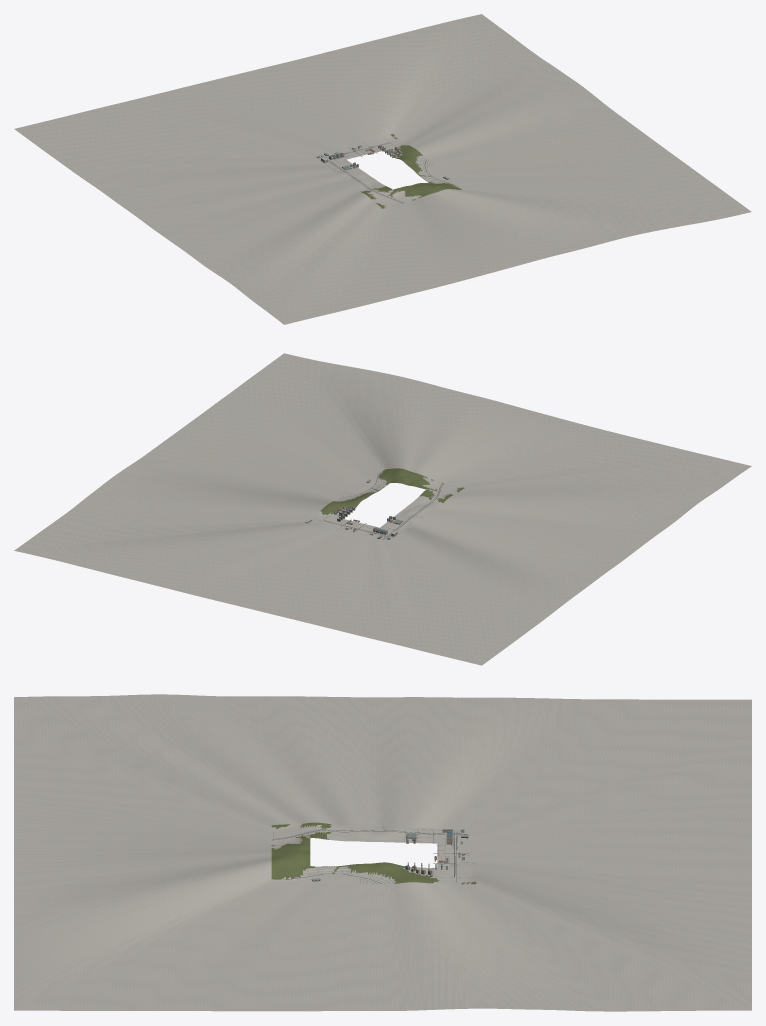
3 views of the same model, one above another, from view 1: azimuth 30°, elevation 25°; view 2: azimuth 150°, elevation 25°; view 3: azimuth 270°, elevation 25° (orthographic). The views are drawn at different scales.
Visible parts, largest first — view 1: ctx-ground; view 2: ctx-ground; view 3: ctx-ground, ctx-buildings, ctx-roads, ctx-streets.
Boxes of the visible parts, x1,y1,x2,y2 form: ctx-ground: (14, 14, 751, 324); ctx-ground: (14, 353, 751, 665); ctx-ground: (14, 694, 751, 1011); ctx-buildings: (311, 827, 468, 881); ctx-roads: (272, 829, 469, 883); ctx-streets: (271, 825, 474, 884).
Size of the model in its own units: 7600 by 101 by 7600.
14 materials, 13 textured.
